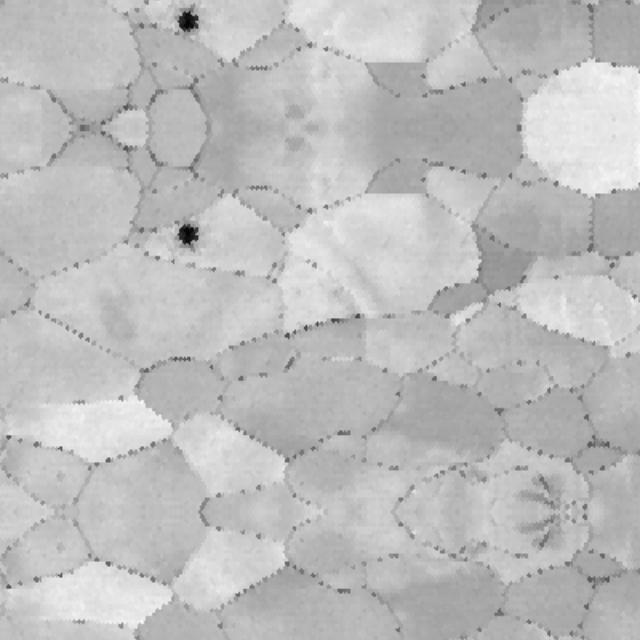good_void: (166, 213, 209, 266), (166, 0, 209, 43), (303, 255, 320, 272)
